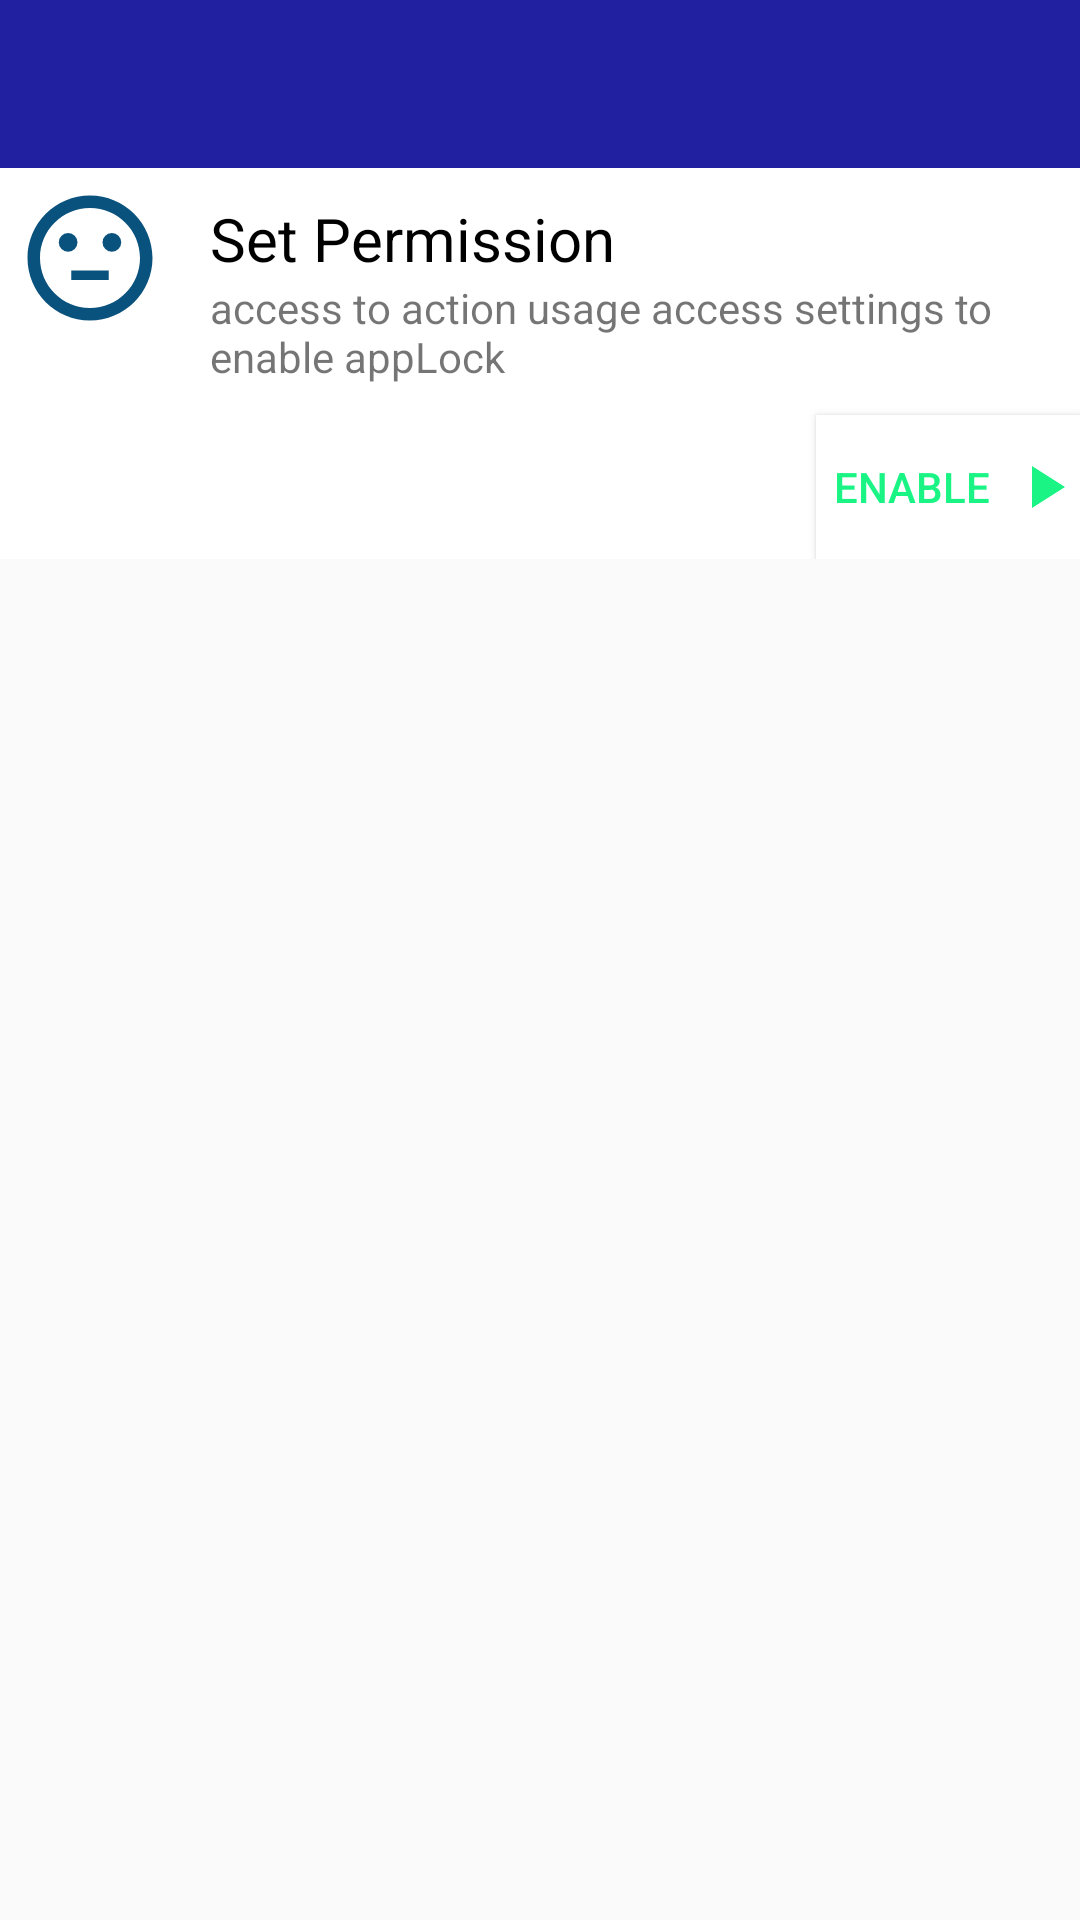

Point at icon controls on the screen. Image size 1080*1920, points as (x=x, y=y).
sentiment neutral: (x=90, y=258)
